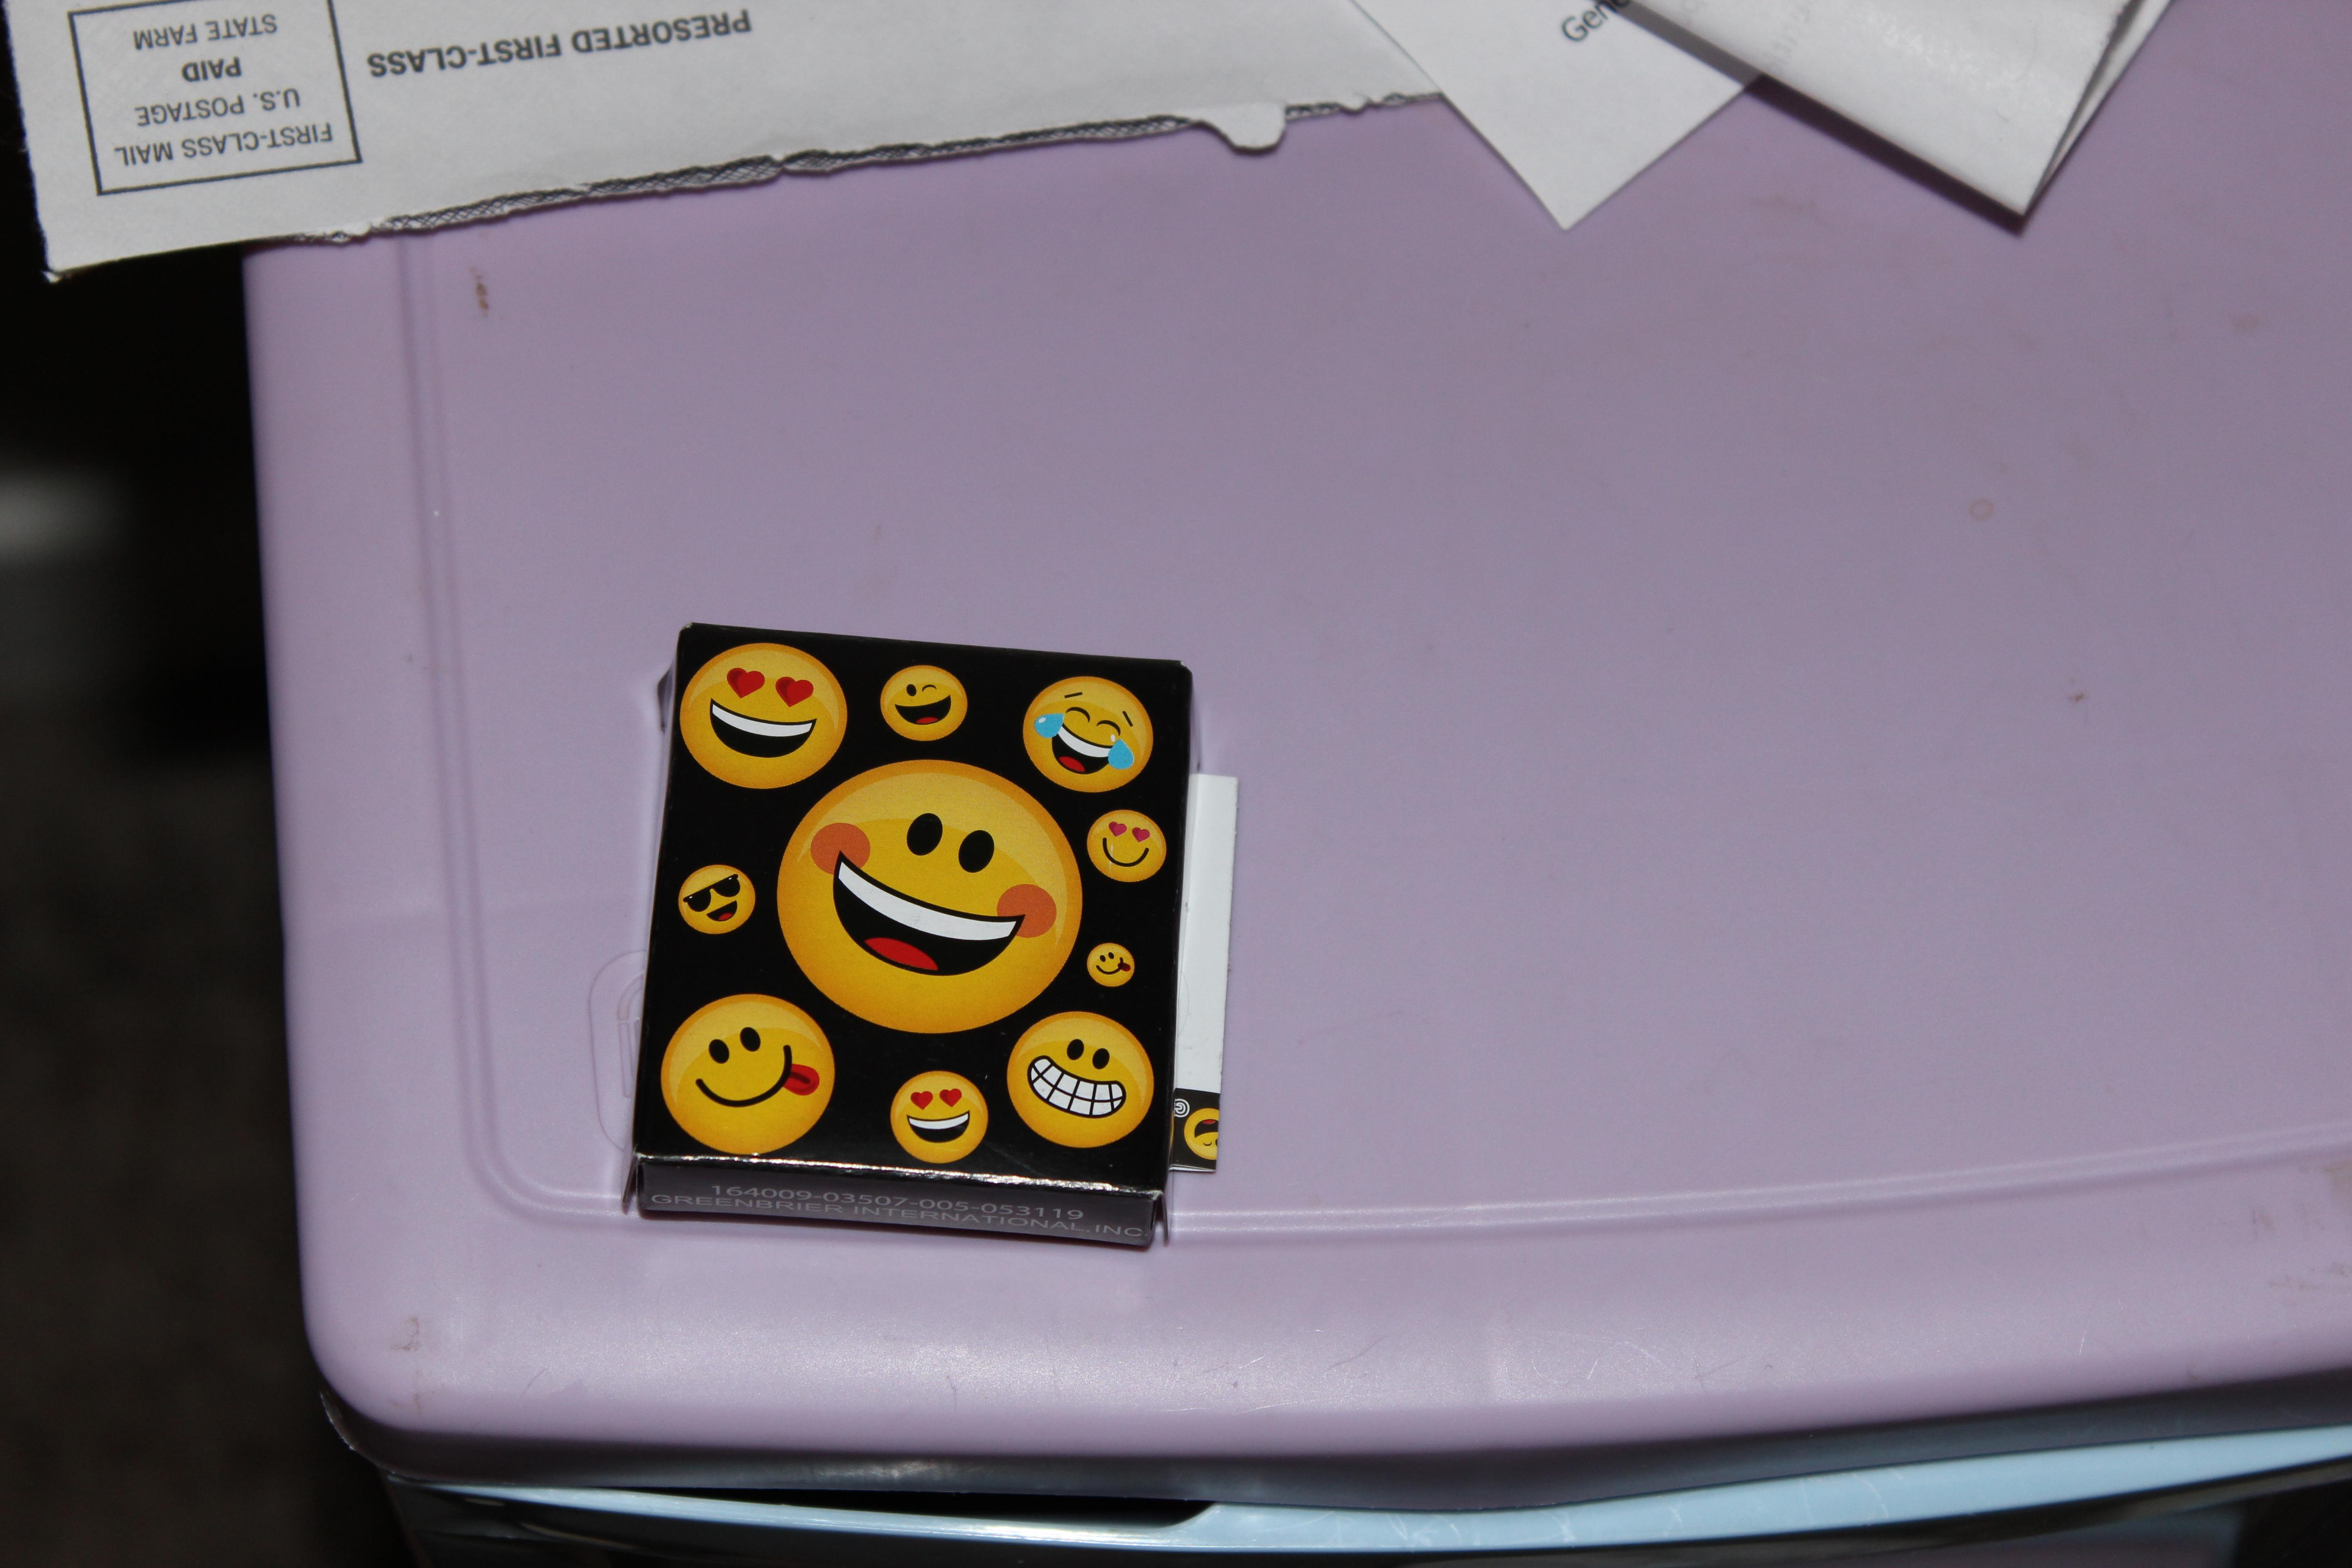stickerBox: (583, 595, 1264, 1277)
